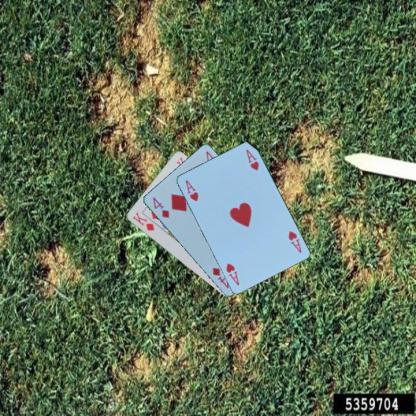4d: (150, 194, 171, 219)
Ah: (285, 228, 303, 254), (182, 177, 199, 203)
Kd: (129, 209, 156, 232)
